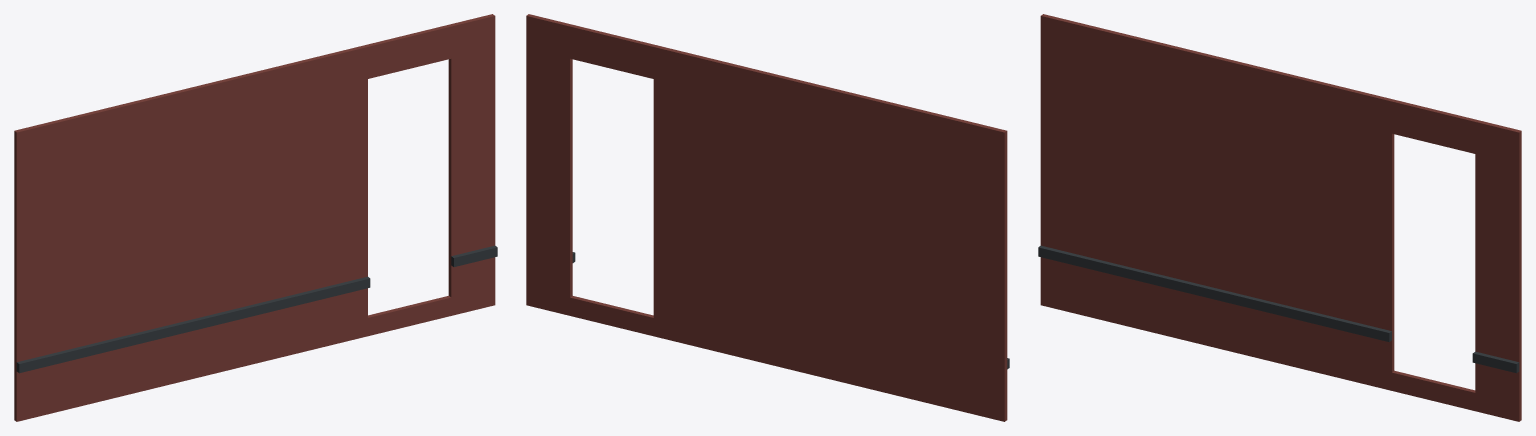
File: horse_box_wall_door.glb
3 renders of one model, left to right at view 1: azimuth 30°, elevation 25°; view 2: azimuth 150°, elevation 25°; view 3: azimuth 330°, elevation 25°, orthographic.
Visible parts, largest first — view 1: body:compound; view 2: body:compound; view 3: body:compound.
Part boxes in pixels (x1=…): body:compound: x1=14, y1=14, x2=497, y2=421; body:compound: x1=526, y1=14, x2=1009, y2=421; body:compound: x1=1038, y1=14, x2=1521, y2=421.
Size of the model in its own units: 3.41 by 1.97 by 0.0625.
